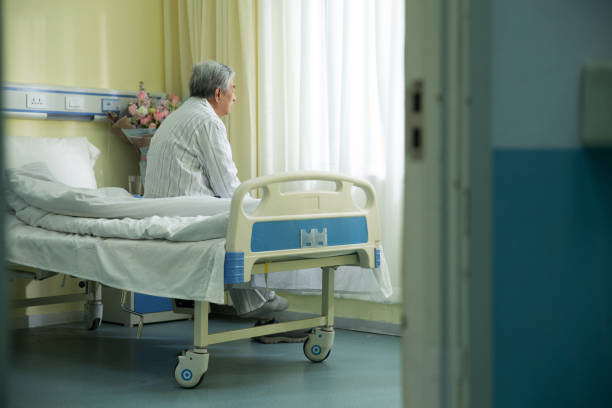foot_board: (216, 170, 383, 285)
hospital_bed: (1, 134, 390, 392)
light_switch: (65, 94, 86, 112)
patient: (143, 59, 254, 201)
